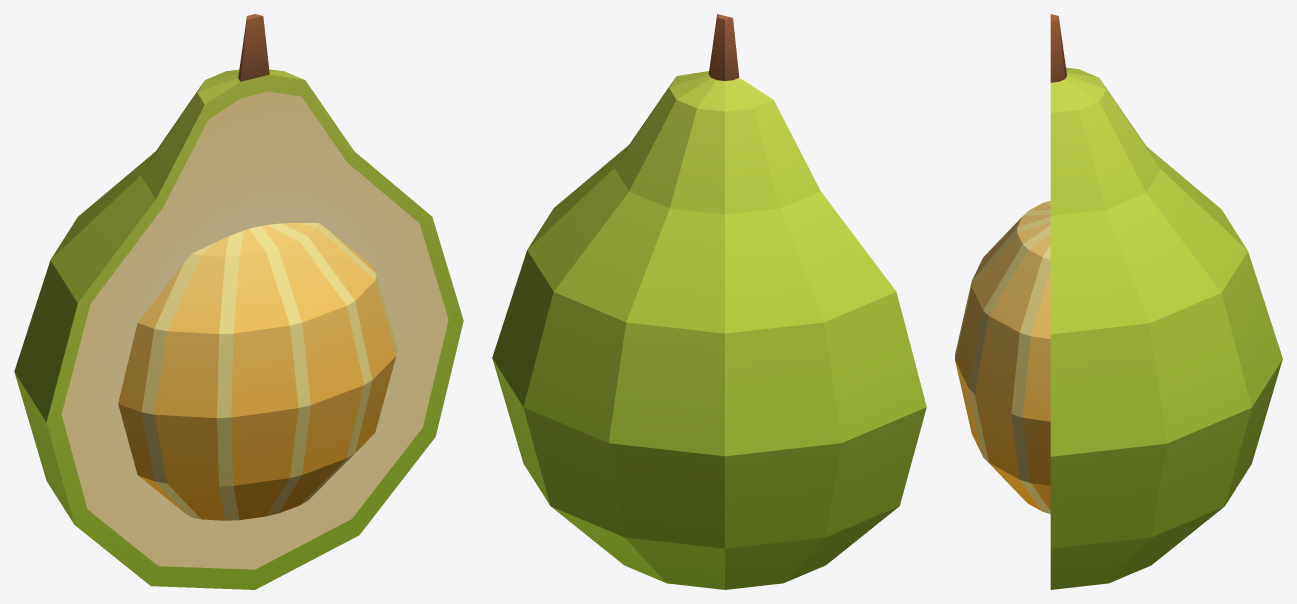
Rendered from Pomelo Half.fbx.
3 renders of one model, left to right at view 1: azimuth 30°, elevation 25°; view 2: azimuth 150°, elevation 25°; view 3: azimuth 270°, elevation 25°, orthographic. The views are drawn at different scales.
Parts seen in each view (by area): view 1: Pomelo Half; view 2: Pomelo Half; view 3: Pomelo Half.
Part boxes in pixels (left/top/right/bottom): Pomelo Half: left=14, top=14, right=463, bottom=589; Pomelo Half: left=492, top=14, right=926, bottom=589; Pomelo Half: left=955, top=14, right=1282, bottom=589.
Bounding box in the file's own units: 18.1 × 23.71 × 12.78.
